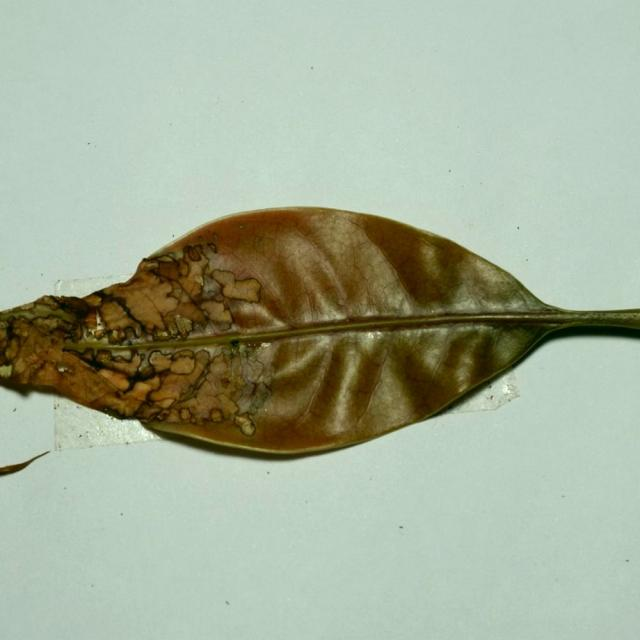Anthracnose: (147, 344, 266, 432), (286, 220, 397, 313), (337, 342, 391, 425), (208, 262, 267, 307), (94, 299, 138, 337), (173, 248, 212, 288), (100, 392, 148, 417), (103, 352, 141, 376), (160, 314, 195, 340), (28, 359, 64, 383), (1, 329, 22, 364), (33, 316, 64, 332), (233, 340, 257, 359), (82, 293, 103, 307), (15, 326, 30, 339), (179, 408, 192, 420), (82, 348, 95, 360), (92, 328, 105, 339), (0, 319, 9, 331), (207, 242, 217, 252), (255, 236, 265, 245), (211, 232, 219, 240), (53, 402, 59, 411), (103, 407, 111, 412), (238, 224, 244, 229), (13, 407, 17, 412), (225, 600, 229, 605), (78, 434, 82, 438), (91, 583, 94, 588), (517, 226, 520, 230), (448, 169, 452, 172), (120, 512, 123, 516), (310, 66, 313, 70), (87, 142, 91, 145), (169, 123, 172, 126), (172, 234, 175, 237), (525, 258, 528, 261), (64, 486, 66, 490)
Mango: (0, 207, 639, 463)
